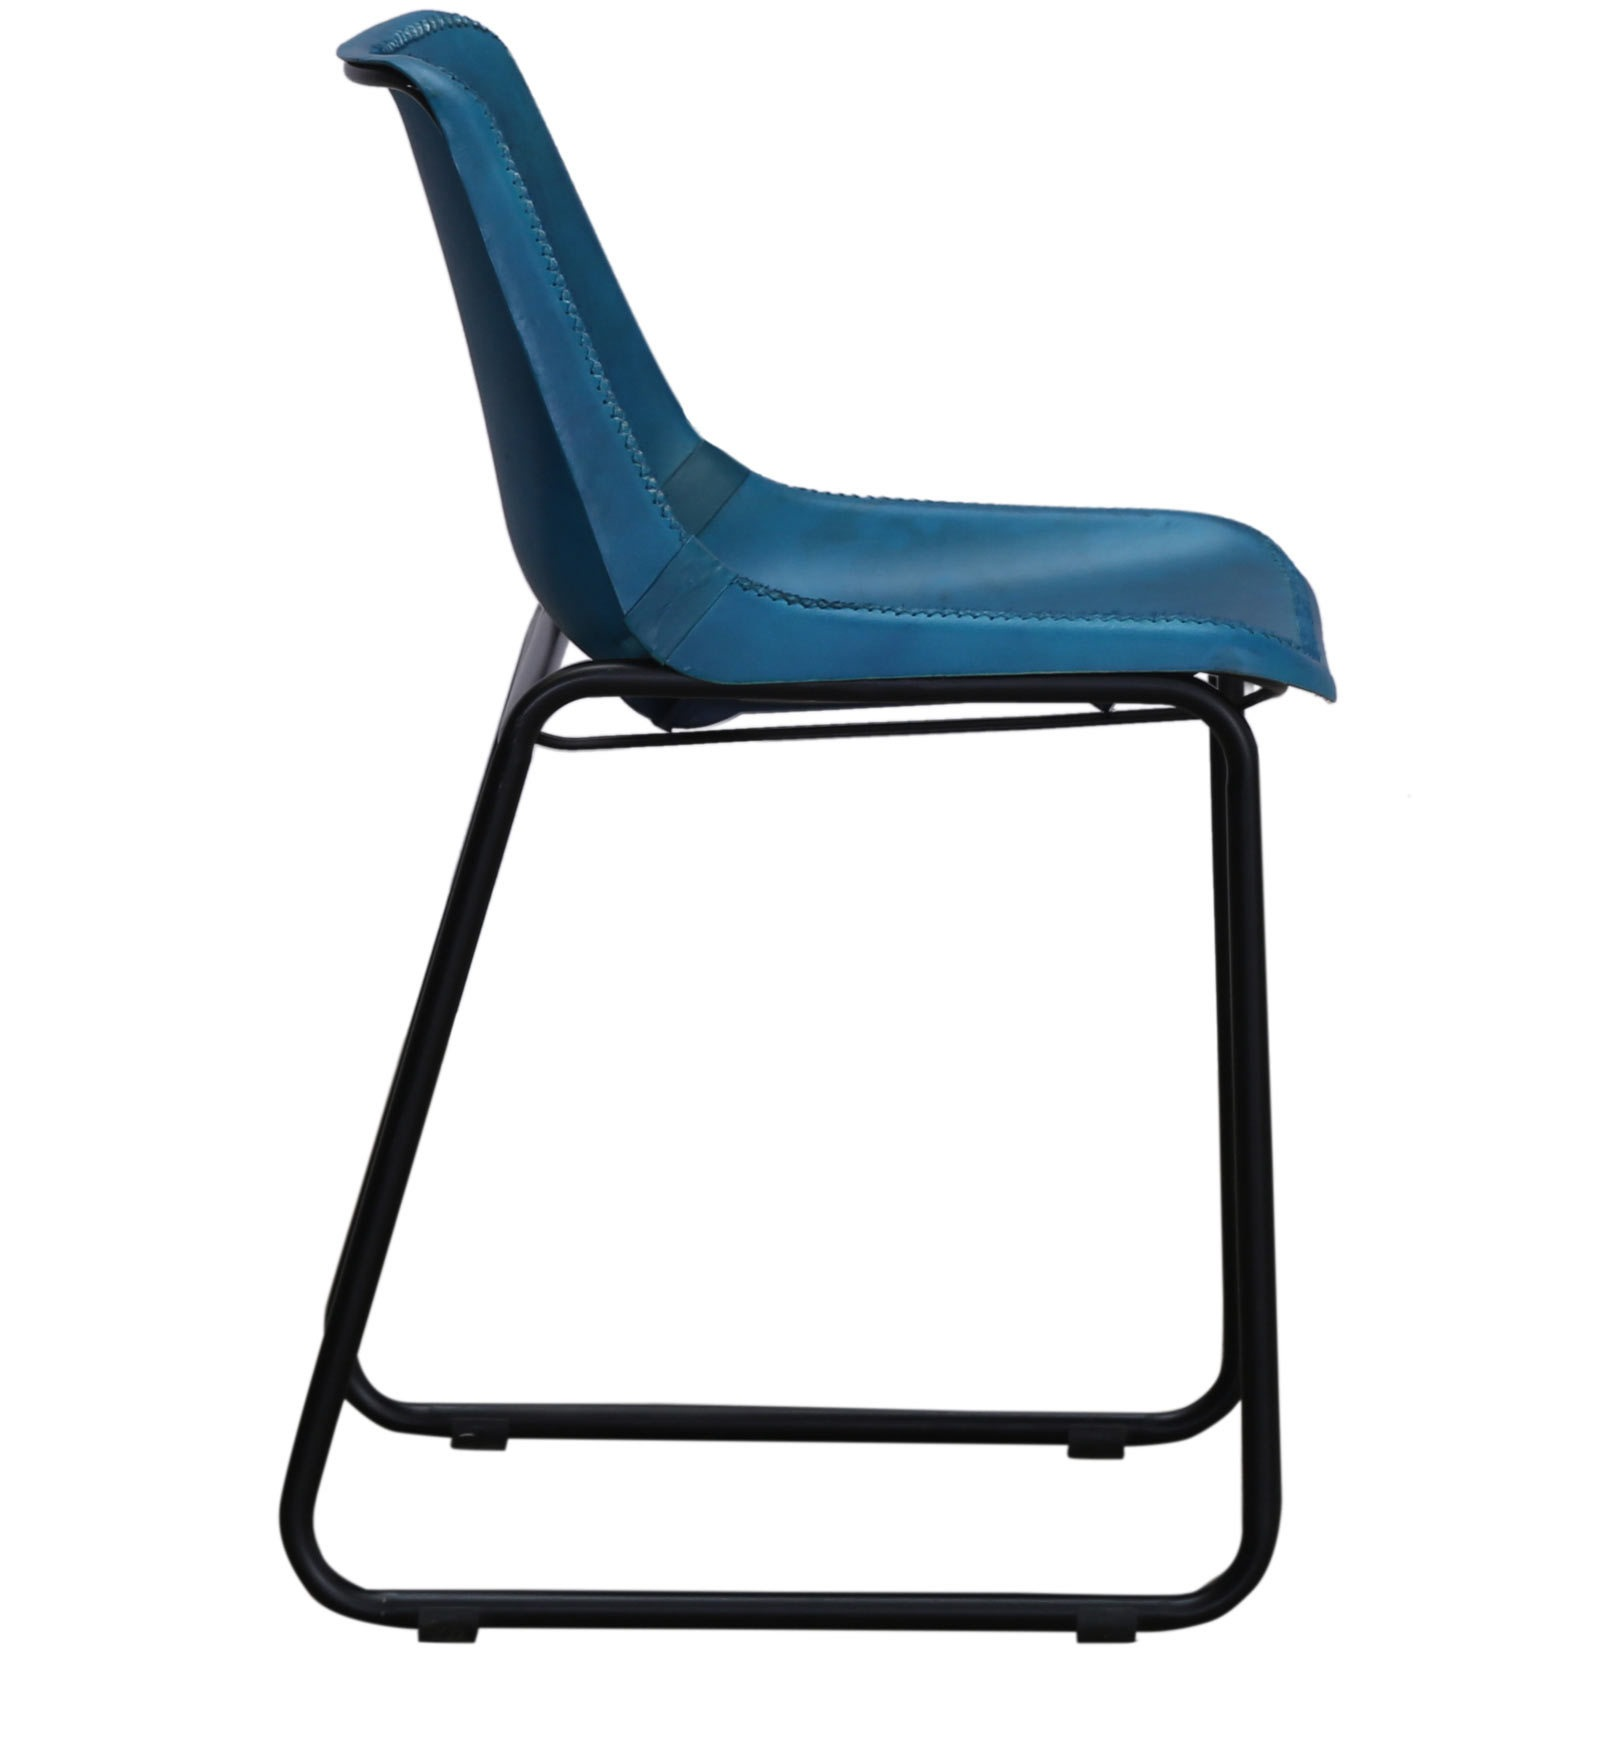Medina Ink Blue Color Leather Accent Chair by Bohemiana: (247, 14, 1347, 1650)
